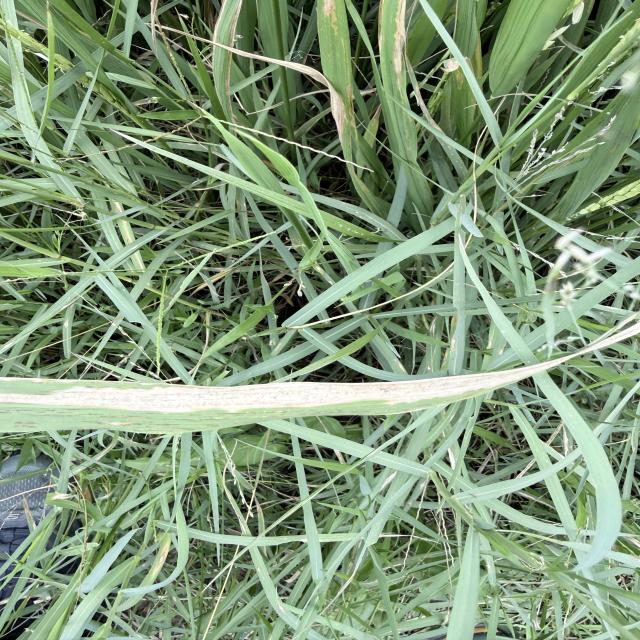Chay bia la: (0, 321, 640, 416)
